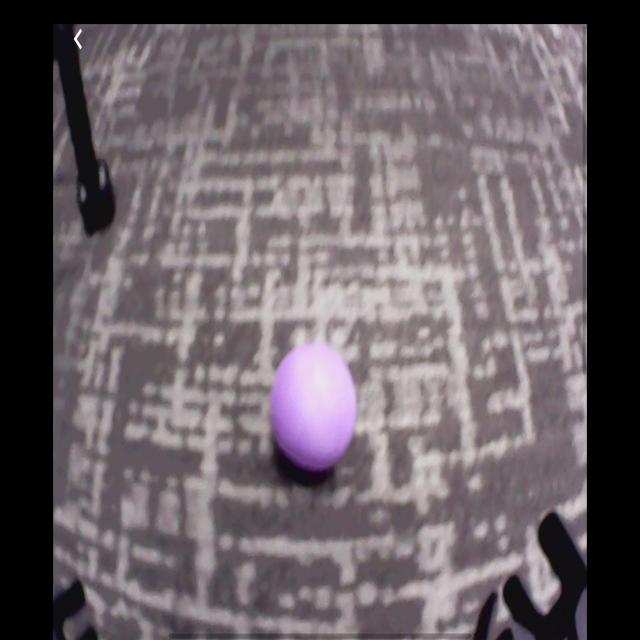ball: (272, 343, 358, 475)
